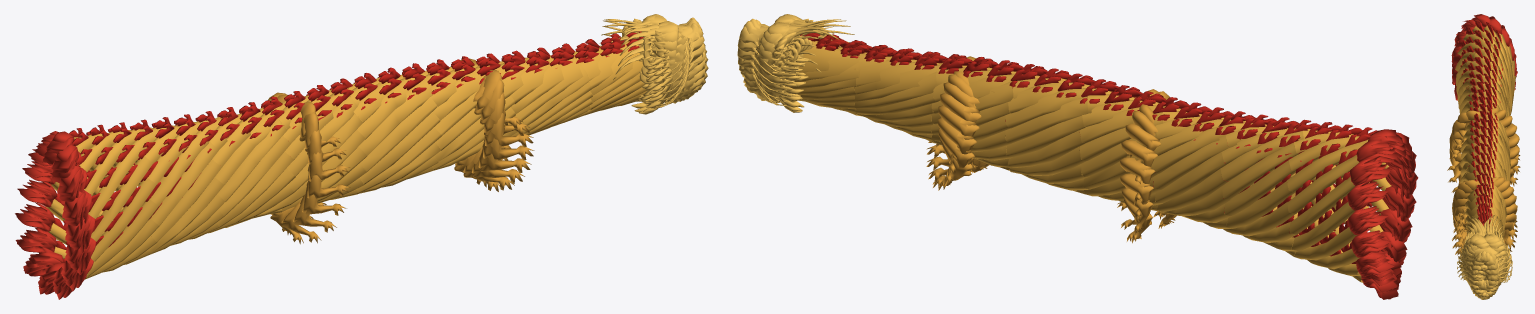
The model's file is drak_cinsky.glb.
3 renders of one model, left to right at view 1: azimuth 30°, elevation 25°; view 2: azimuth 150°, elevation 25°; view 3: azimuth 270°, elevation 25°, orthographic. The views are drawn at different scales.
Parts seen in each view (by area): view 1: let_08, let_00, let_13, let_07, let_09, let_12, let_11, let_14, let_10, let_15, let_01, let_06 (+4 smaller); view 2: let_04, let_03, let_07, let_08, let_01, let_11, let_09, let_05, let_06, let_15, let_14, let_00 (+4 smaller); view 3: let_03, let_01, let_14, let_00, let_02, let_04, let_13, let_15, let_05, let_12, let_06, let_08 (+4 smaller).
Boxes of the visible parts, <box> form: let_08: <box>15,14,678,253</box>; let_00: <box>62,51,705,244</box>; let_13: <box>60,34,610,291</box>; let_07: <box>17,15,695,245</box>; let_09: <box>15,18,678,264</box>; let_12: <box>52,26,627,299</box>; let_11: <box>38,21,638,294</box>; let_14: <box>65,43,640,274</box>; let_10: <box>23,19,642,276</box>; let_15: <box>65,50,702,253</box>; let_01: <box>57,53,707,243</box>; let_06: <box>22,18,701,239</box>; let_04: <box>866,68,1398,236</box>; let_03: <box>798,64,1405,228</box>; let_07: <box>743,14,1388,260</box>; let_08: <box>739,15,1390,269</box>; let_01: <box>773,57,1416,229</box>; let_11: <box>738,26,1398,299</box>; let_09: <box>737,19,1394,276</box>; let_05: <box>756,19,1391,242</box>; let_06: <box>750,18,1388,251</box>; let_15: <box>758,51,1416,243</box>; let_14: <box>750,49,1412,242</box>; let_00: <box>766,54,1418,241</box>; let_03: <box>1448,14,1515,280</box>; let_01: <box>1454,28,1510,290</box>; let_14: <box>1453,54,1517,299</box>; let_00: <box>1451,36,1510,298</box>; let_02: <box>1451,19,1511,285</box>; let_04: <box>1447,16,1517,275</box>; let_13: <box>1452,63,1520,295</box>; let_15: <box>1452,45,1513,299</box>; let_05: <box>1449,25,1517,276</box>; let_12: <box>1452,71,1520,292</box>; let_06: <box>1452,38,1516,269</box>; let_08: <box>1463,71,1517,273</box>.
Bounding box in the file's own units: 24.75 × 5.67 × 3.51.
